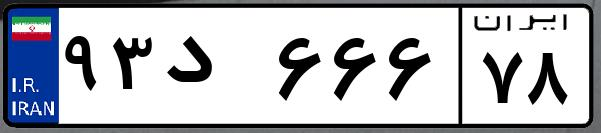3: (110, 28, 158, 98)
6: (270, 28, 330, 110), (385, 28, 445, 110), (330, 28, 385, 110)
7: (475, 38, 525, 113)
8: (525, 38, 570, 115)
9: (57, 26, 110, 100)
د: (158, 20, 270, 120)
